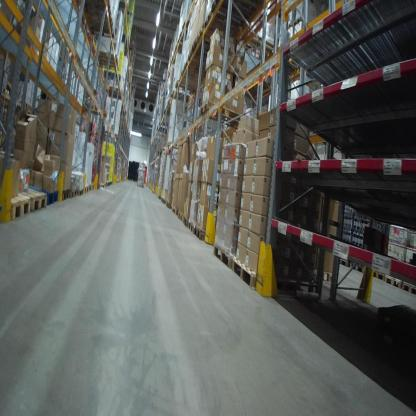pallet: (233, 253, 321, 298), (196, 99, 257, 132), (202, 11, 245, 39), (210, 1, 254, 27), (16, 183, 48, 213), (9, 185, 32, 226), (20, 182, 58, 206), (212, 240, 237, 270), (187, 46, 216, 68), (192, 35, 222, 56), (196, 25, 222, 48), (360, 260, 387, 282), (94, 52, 119, 70), (193, 223, 214, 243), (380, 268, 401, 287), (347, 259, 365, 275), (400, 278, 416, 296), (57, 186, 71, 204), (336, 252, 349, 271), (188, 219, 196, 236), (183, 213, 190, 227), (171, 205, 179, 217), (68, 187, 78, 196), (76, 187, 85, 197), (83, 183, 90, 195), (178, 209, 184, 222), (88, 182, 96, 191)
